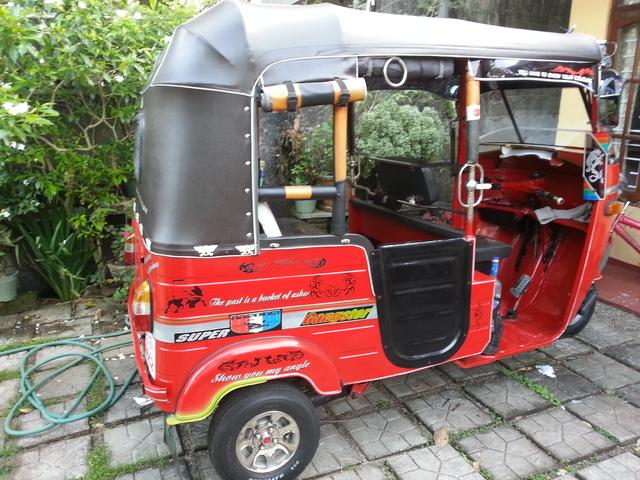threewheel: (127, 1, 620, 480)
